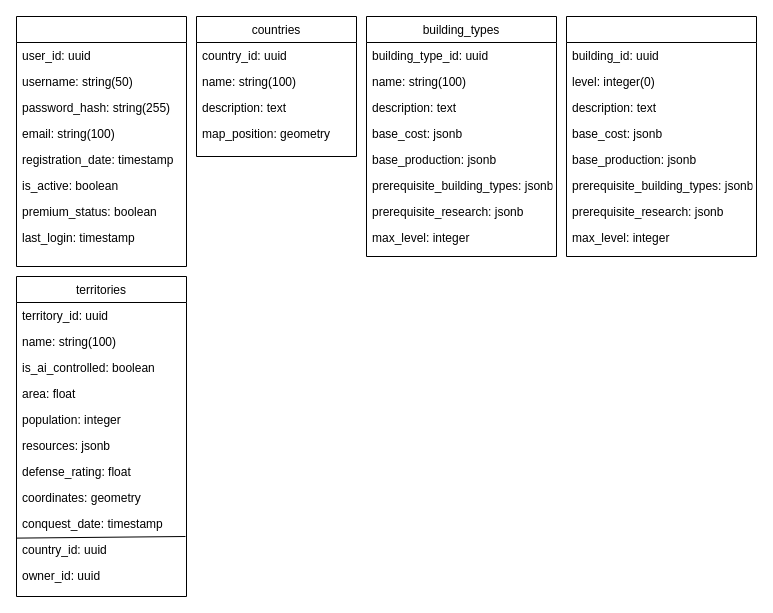
This 773x613 diagram has some shape labels left out. Each missing label, with the box of its shape:
buildings: (566, 16, 756, 256)
users: (16, 16, 186, 266)
